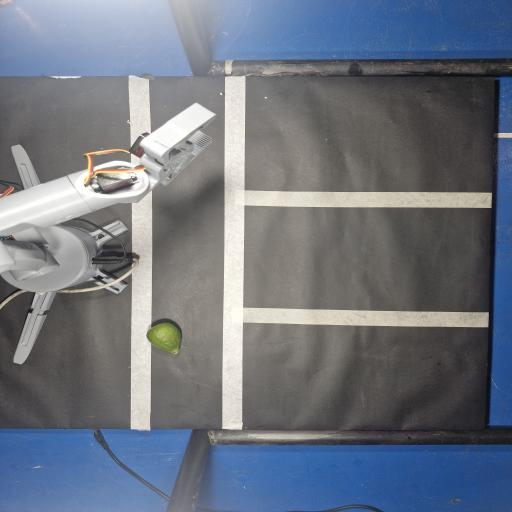higo: (147, 322, 181, 354)
